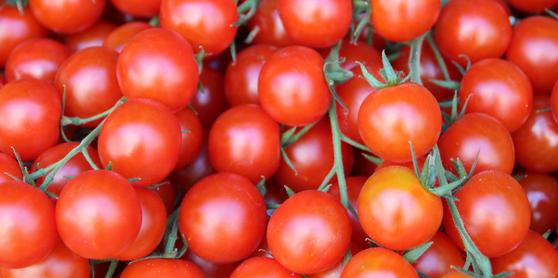tomato: (356, 162, 445, 248), (184, 174, 263, 266), (268, 187, 351, 274), (57, 171, 138, 254), (118, 29, 196, 114), (356, 86, 441, 163), (456, 169, 533, 253), (253, 45, 330, 127)
